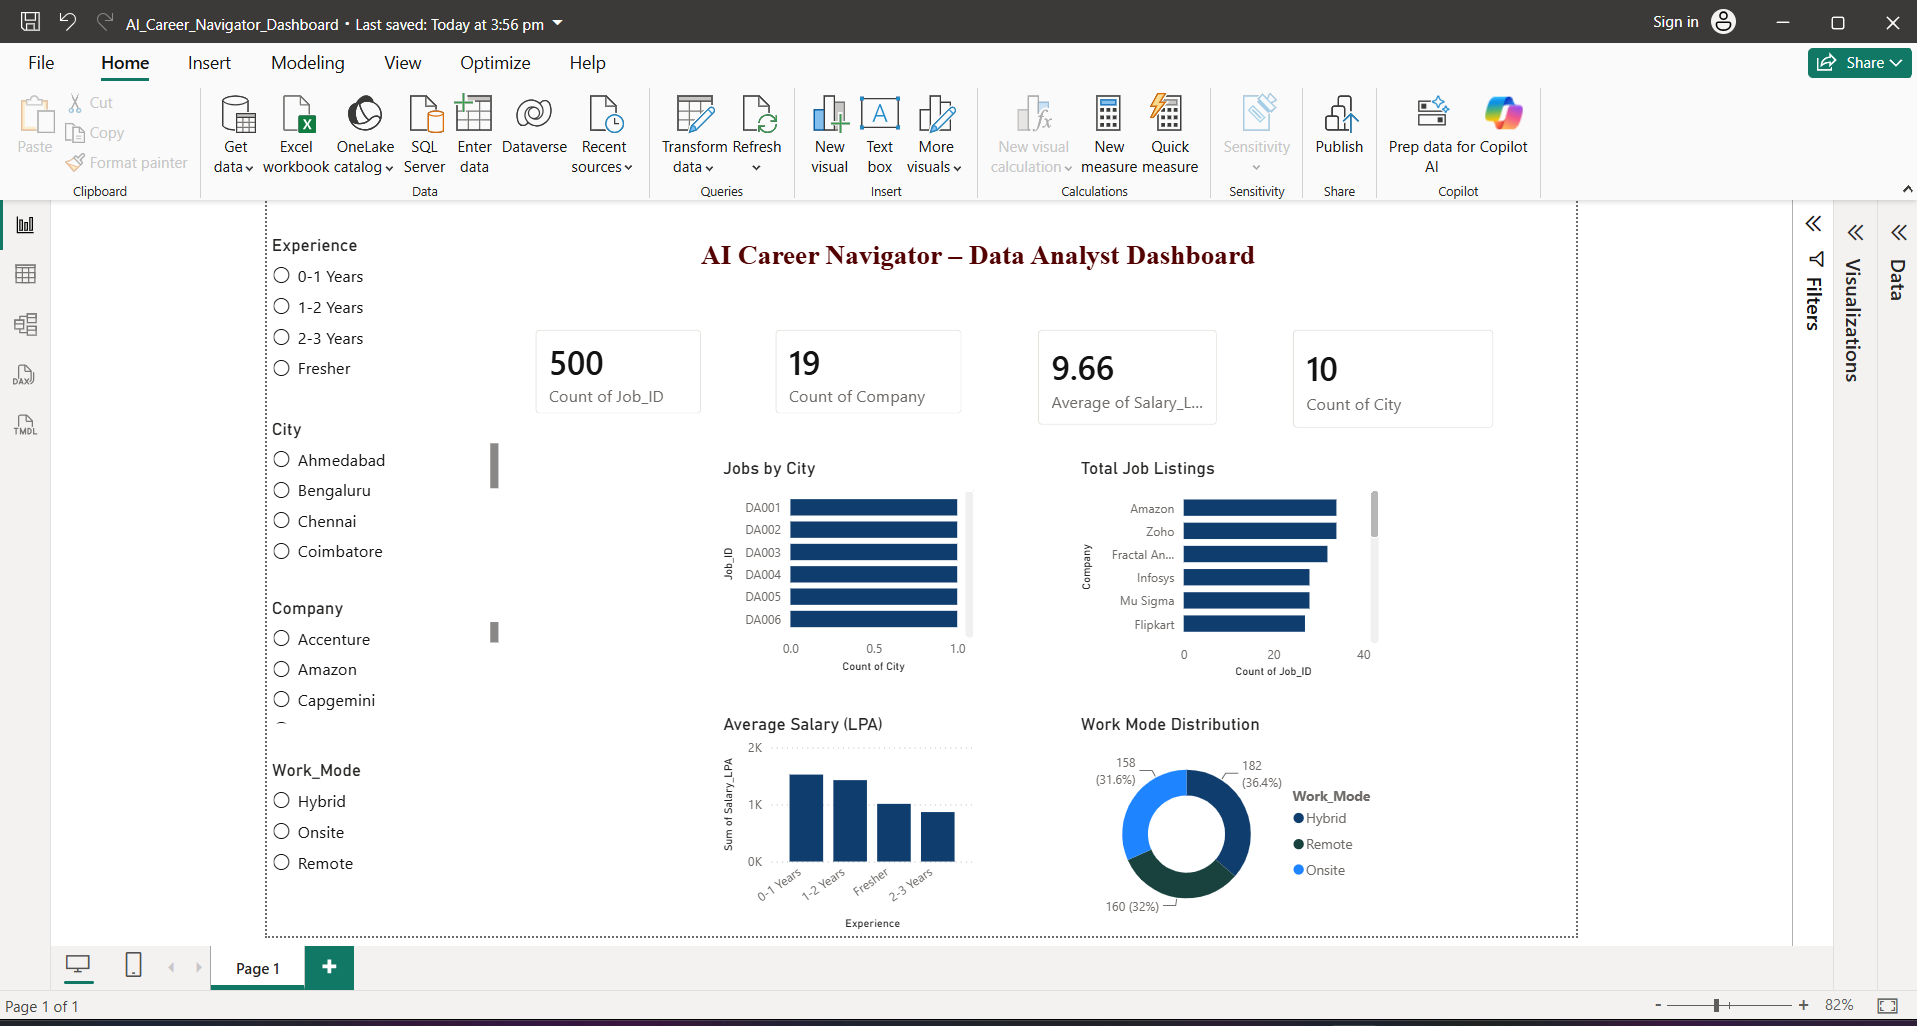

What the dashboard file says about the page in this screenshot:
{"tool":"powerbi","page":{"name":"Page 1","canvas":[1280,720],"ordinal":0},"visuals":[{"type":"cardVisual","fields":{"Data":["CountNonNull(AI_Career_Navigator_Dataset.Job_ID)"]},"box":[245.4,109.7,196,116.5],"z":1},{"type":"cardVisual","fields":{"Data":["Count(AI_Career_Navigator_Dataset.Company)"]},"box":[481.1,109.7,216.6,116.5],"z":2},{"type":"cardVisual","fields":{"Data":["Avg(AI_Career_Navigator_Dataset.Salary_LPA)"]},"box":[737.5,109.7,209.7,127.5],"z":3},{"type":"cardVisual","fields":{"Data":["Count(AI_Career_Navigator_Dataset.City)"]},"box":[986.9,109.7,230.3,130.2],"z":4},{"type":"clusteredBarChart","title":"Total Job Listings","fields":{"Category":["AI_Career_Navigator_Dataset.Company"],"Y":["CountNonNull(AI_Career_Navigator_Dataset.Job_ID)"]},"box":[790.9,252.2,301.6,220.7],"z":5},{"type":"clusteredBarChart","title":"Jobs by City","fields":{"Y":["CountNonNull(AI_Career_Navigator_Dataset.City)"],"Category":["AI_Career_Navigator_Dataset.Job_ID"]},"box":[441.4,252.2,255,215.2],"z":6},{"type":"donutChart","title":"Work Mode Distribution","fields":{"Category":["AI_Career_Navigator_Dataset.Work_Mode"],"Y":["CountNonNull(AI_Career_Navigator_Dataset.Job_ID)"]},"box":[790.9,503.1,311.2,216.6],"z":7},{"type":"clusteredColumnChart","title":"Average Salary (LPA)","fields":{"Category":["AI_Career_Navigator_Dataset.Experience"],"Y":["Sum(AI_Career_Navigator_Dataset.Salary_LPA)"]},"box":[441.4,503.1,255,216.6],"z":8},{"type":"listSlicer","fields":{"Values":["AI_Career_Navigator_Dataset.Company"]},"box":[0,389.3,231.7,128.9],"z":9},{"type":"listSlicer","fields":{"Values":["AI_Career_Navigator_Dataset.City"]},"box":[0,213.8,231.7,145.3],"z":10},{"type":"listSlicer","fields":{"Values":["AI_Career_Navigator_Dataset.Experience"]},"box":[0,34.3,231.7,149.4],"z":11},{"type":"listSlicer","fields":{"Values":["AI_Career_Navigator_Dataset.Work_Mode"]},"box":[0,548.3,231.7,146.7],"z":12},{"type":"textbox","box":[419.4,34.3,552.4,56.2],"z":13}]}

Visuals, with their boxes on the page's 1280x720 design canvas (x1, y1, x2, y2). These are canvas units, not pixel positions in the 1917x1026 screenshot, which may show the page scaled, cropped or inside an application window:
cardVisual - CountNonNull(AI_Career_Navigator_Dataset.Job_ID): BBox(245, 110, 441, 226)
cardVisual - Count(AI_Career_Navigator_Dataset.Company): BBox(481, 110, 698, 226)
cardVisual - Avg(AI_Career_Navigator_Dataset.Salary_LPA): BBox(738, 110, 947, 237)
cardVisual - Count(AI_Career_Navigator_Dataset.City): BBox(987, 110, 1217, 240)
"Total Job Listings" clusteredBarChart: BBox(791, 252, 1092, 473)
"Jobs by City" clusteredBarChart: BBox(441, 252, 696, 467)
"Work Mode Distribution" donutChart: BBox(791, 503, 1102, 720)
"Average Salary (LPA)" clusteredColumnChart: BBox(441, 503, 696, 720)
listSlicer - AI_Career_Navigator_Dataset.Company: BBox(0, 389, 232, 518)
listSlicer - AI_Career_Navigator_Dataset.City: BBox(0, 214, 232, 359)
listSlicer - AI_Career_Navigator_Dataset.Experience: BBox(0, 34, 232, 184)
listSlicer - AI_Career_Navigator_Dataset.Work_Mode: BBox(0, 548, 232, 695)
textbox: BBox(419, 34, 972, 90)
